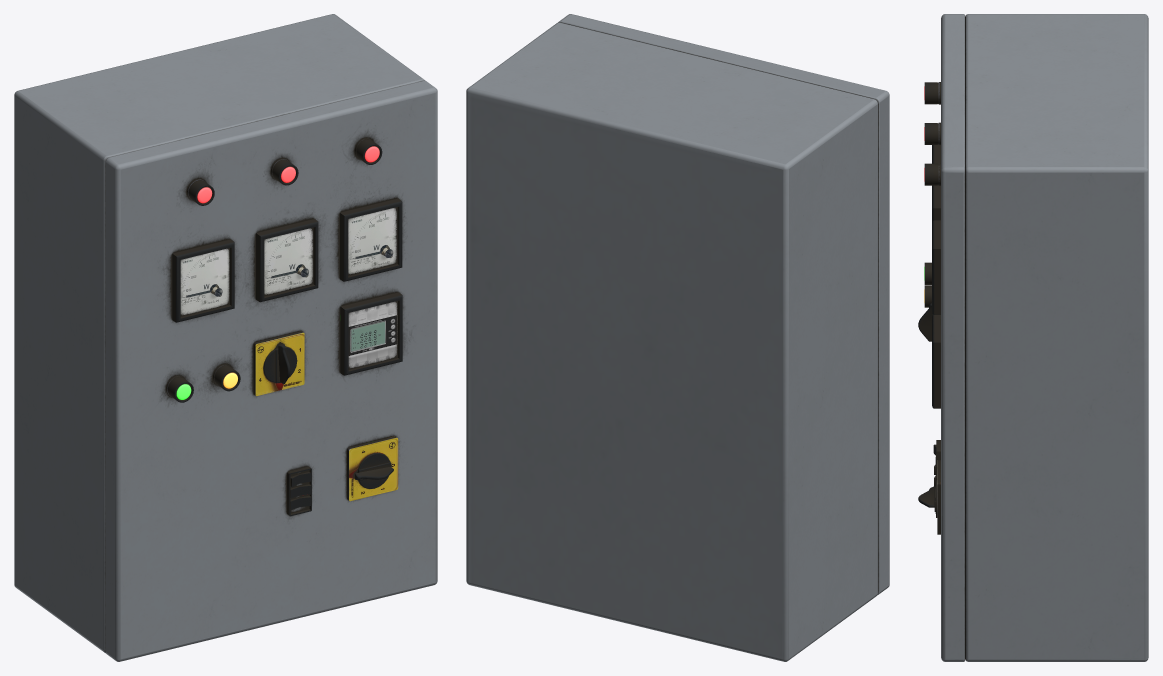
Rendered from generator.glb.
3 renders of one model, left to right at view 1: azimuth 30°, elevation 25°; view 2: azimuth 150°, elevation 25°; view 3: azimuth 270°, elevation 25°, orthographic.
Parts seen in each view (by area): view 1: Null_1; view 2: Null_1; view 3: Null_1.
Boxes of the visible parts, <box> form: Null_1: <box>14,14,437,661</box>; Null_1: <box>466,14,889,661</box>; Null_1: <box>918,14,1148,661</box>.
Bounding box in the file's own units: 2 × 2.95 × 1.24.
1 material, 1 textured.
